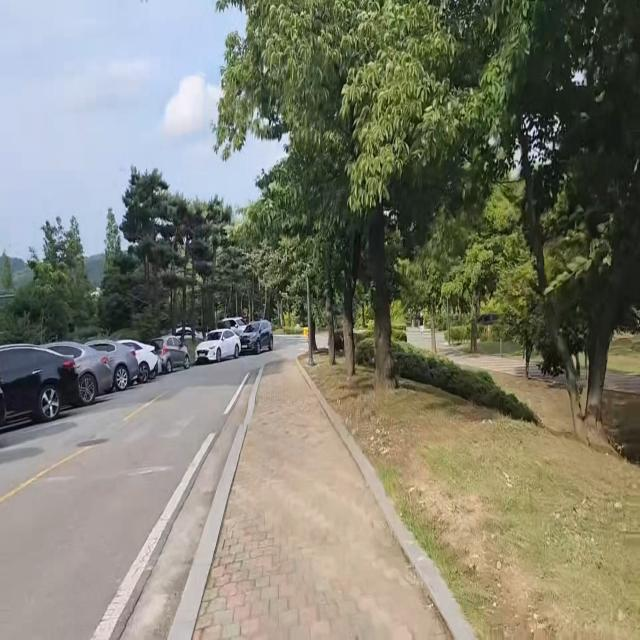obstacle: (44, 331, 194, 410), (0, 335, 82, 435), (192, 312, 275, 366)
road: (0, 351, 262, 640)
sidewalk: (166, 360, 478, 640)
